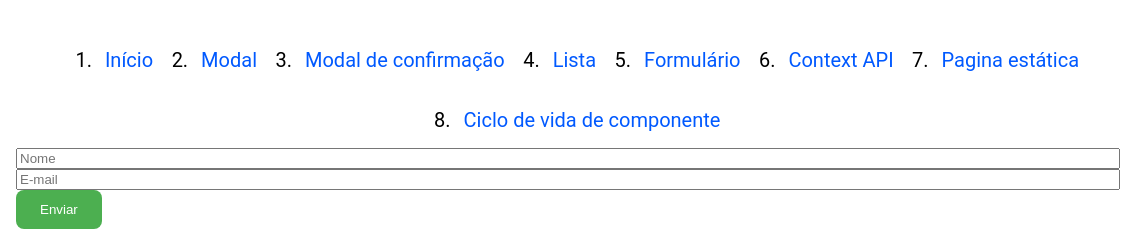
Scenario: form › form should try to register user sucessfully
Expected: the form is shown, [16,148,1120,229]
In the field named "name": (568, 159) [16,148,1120,169], type "Alex"
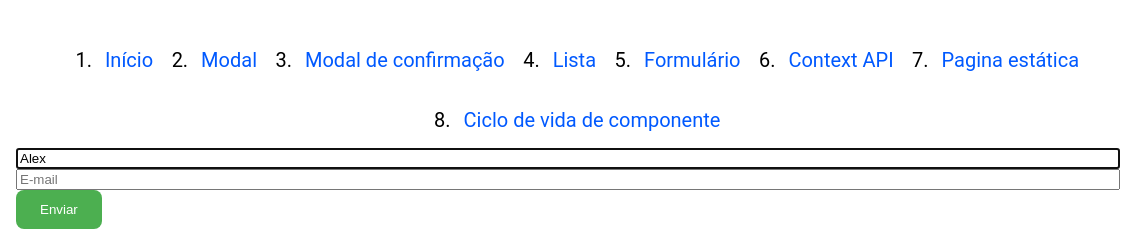
In the field named "email": (568, 180) [16,169,1120,190], type "alex@email.com"
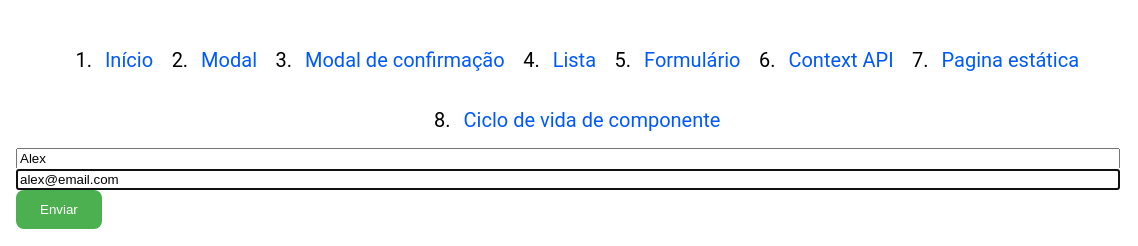
Click the submit button: (59, 210) [16,190,102,229]
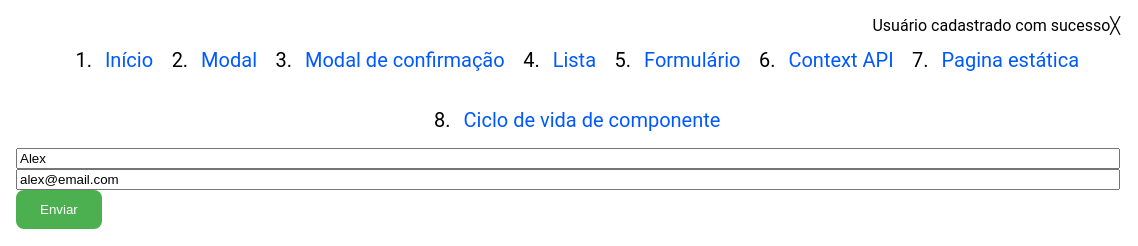
Expected: the element showing "Usuário cadastrado com sucesso╳" is shown, [872,16,1120,35]
